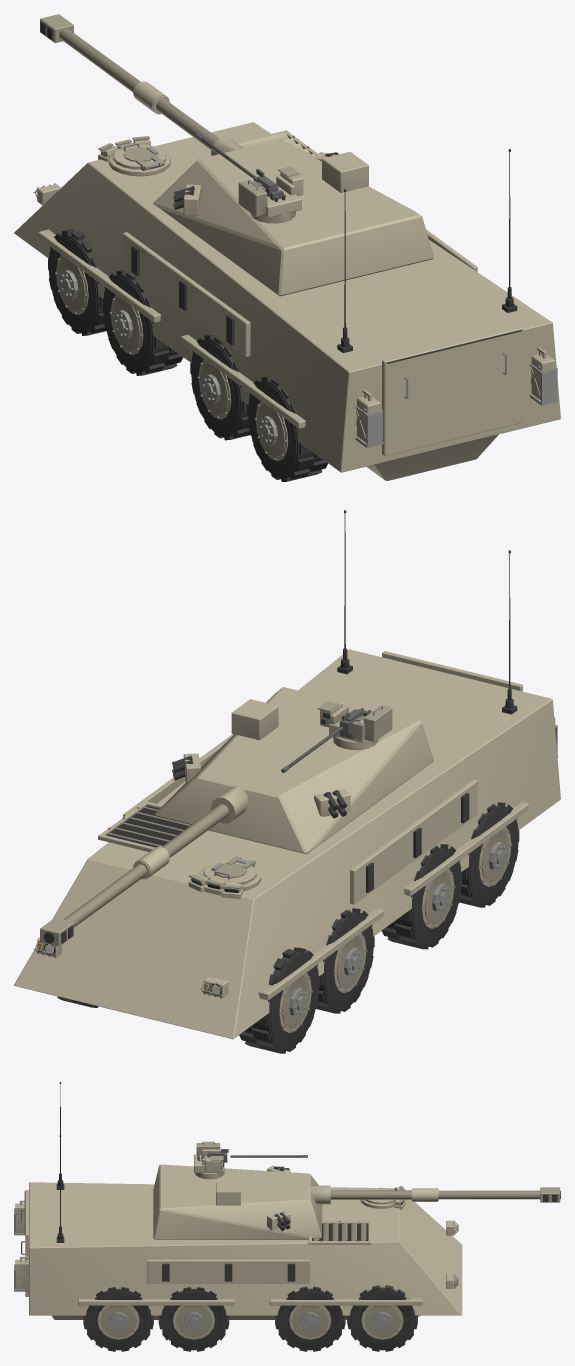
Rendered from usa_td_mgs.glb.
The picture shows the model from 3 angles, top to bottom: view 1: azimuth 30°, elevation 25°; view 2: azimuth 150°, elevation 25°; view 3: azimuth 270°, elevation 25°; orthographic projection. The views are drawn at different scales.
Visible parts, largest first — view 1: body, turret, door, wheel_2, wheel_6, wheel_0, wheel_4, barrel; view 2: body, turret, wheel_0, barrel, wheel_4, wheel_6, wheel_2, door; view 3: body, turret, wheel_1, wheel_3, wheel_5, wheel_7, barrel, door.
Boxes of the visible parts, x1=… form: body: x1=14, y1=122, x2=560, y2=480; turret: x1=153, y1=133, x2=433, y2=296; door: x1=382, y1=326, x2=522, y2=455; wheel_2: x1=102, y1=270, x2=183, y2=375; wheel_6: x1=247, y1=376, x2=327, y2=481; wheel_0: x1=48, y1=229, x2=106, y2=335; wheel_4: x1=190, y1=335, x2=250, y2=440; barrel: x1=40, y1=14, x2=243, y2=155; body: x1=14, y1=510, x2=560, y2=1039; turret: x1=154, y1=687, x2=433, y2=854; wheel_0: x1=239, y1=947, x2=319, y2=1053; barrel: x1=40, y1=785, x2=247, y2=946; wheel_4: x1=382, y1=844, x2=462, y2=949; wheel_6: x1=459, y1=802, x2=519, y2=907; wheel_2: x1=315, y1=908, x2=374, y2=1013; door: x1=382, y1=651, x2=522, y2=691; body: x1=14, y1=1082, x2=462, y2=1319; turret: x1=153, y1=1141, x2=322, y2=1239; wheel_1: x1=347, y1=1285, x2=417, y2=1351; wheel_3: x1=275, y1=1286, x2=345, y2=1351; wheel_5: x1=158, y1=1287, x2=229, y2=1351; wheel_7: x1=83, y1=1287, x2=153, y2=1351; barrel: x1=309, y1=1185, x2=560, y2=1204; door: x1=21, y1=1190, x2=28, y2=1296.
Bounding box in the file's own units: 2.88 × 3.65 × 8.71.
